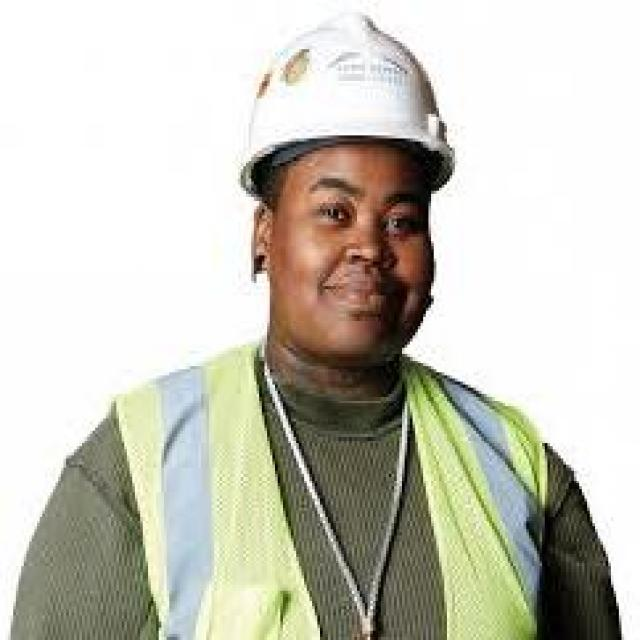Reflective-Jacket: (101, 360, 571, 628)
Safety-Helmet: (235, 9, 463, 194)
